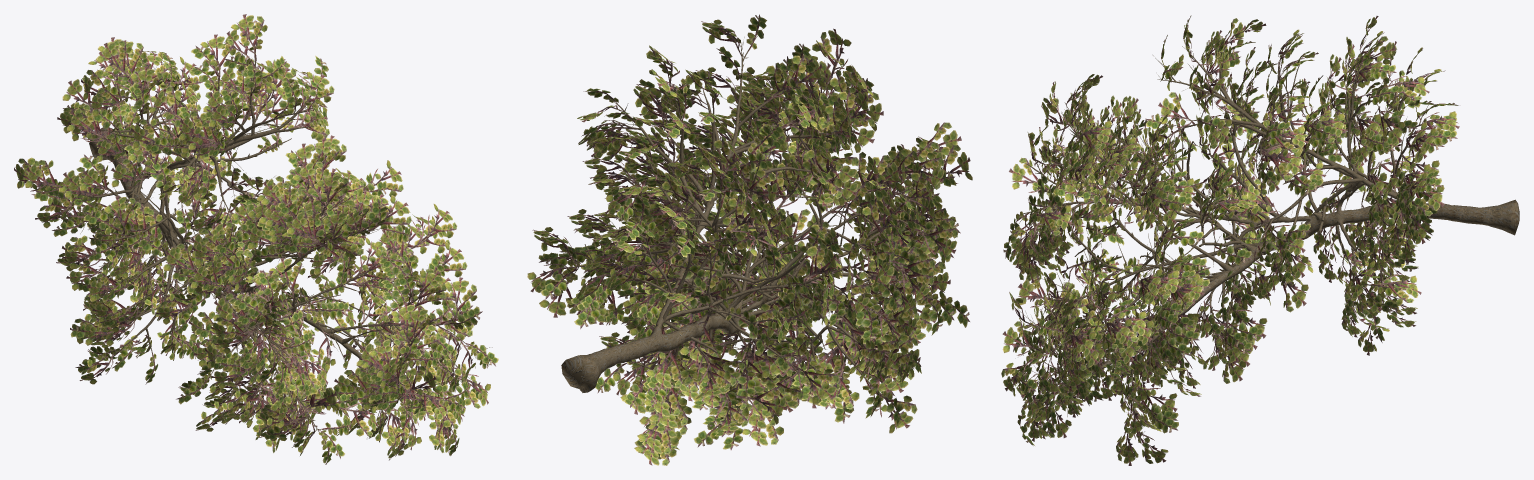
Rendered from new_tree_8.obj.
3 views of the same model, side by side, from view 1: azimuth 30°, elevation 25°; view 2: azimuth 150°, elevation 25°; view 3: azimuth 270°, elevation 25° (orthographic). The views are drawn at different scales.
Visible parts, largest first — view 1: Broadleaf_Dense_Tree_Adult; view 2: Broadleaf_Dense_Tree_Adult; view 3: Broadleaf_Dense_Tree_Adult.
Part boxes in pixels (x1,y1,x2,y2): Broadleaf_Dense_Tree_Adult: (14, 14, 498, 464); Broadleaf_Dense_Tree_Adult: (527, 14, 972, 465); Broadleaf_Dense_Tree_Adult: (1001, 15, 1519, 465).
Bounding box in the file's own units: 4.83 × 5.12 × 6.03.
2 materials, 2 textured.
